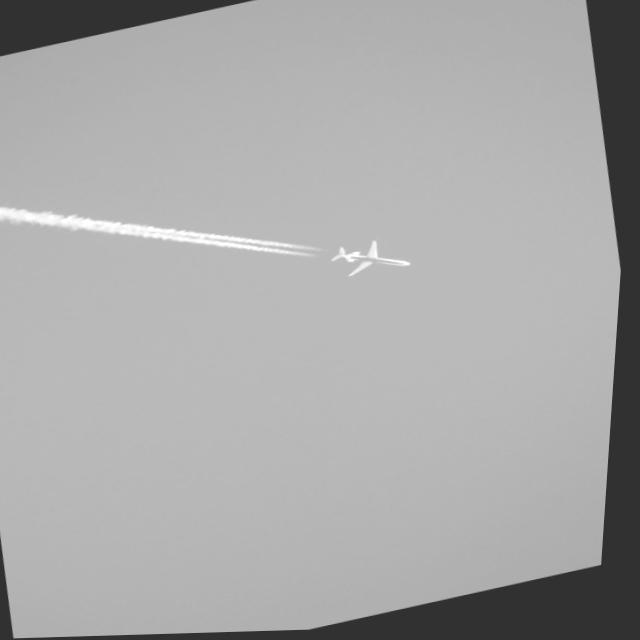aeroplane: (325, 230, 426, 289)
